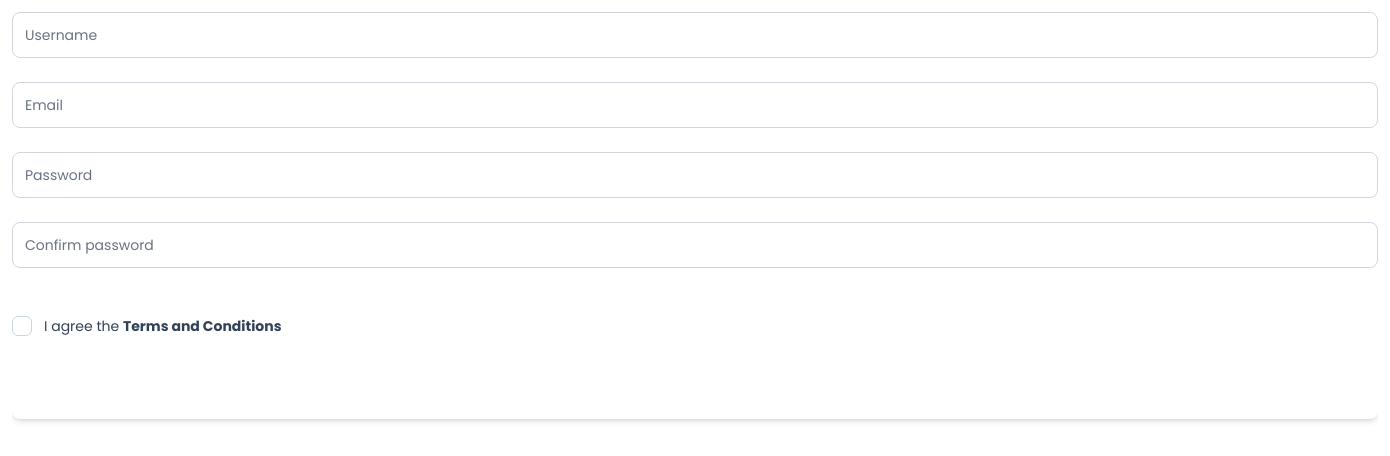
Test case: testing Sign up form › shows validation error when user already exists
Step 1. Type "Radu" into the field labelled "Username" → (695, 35), box [12, 12, 1378, 58]
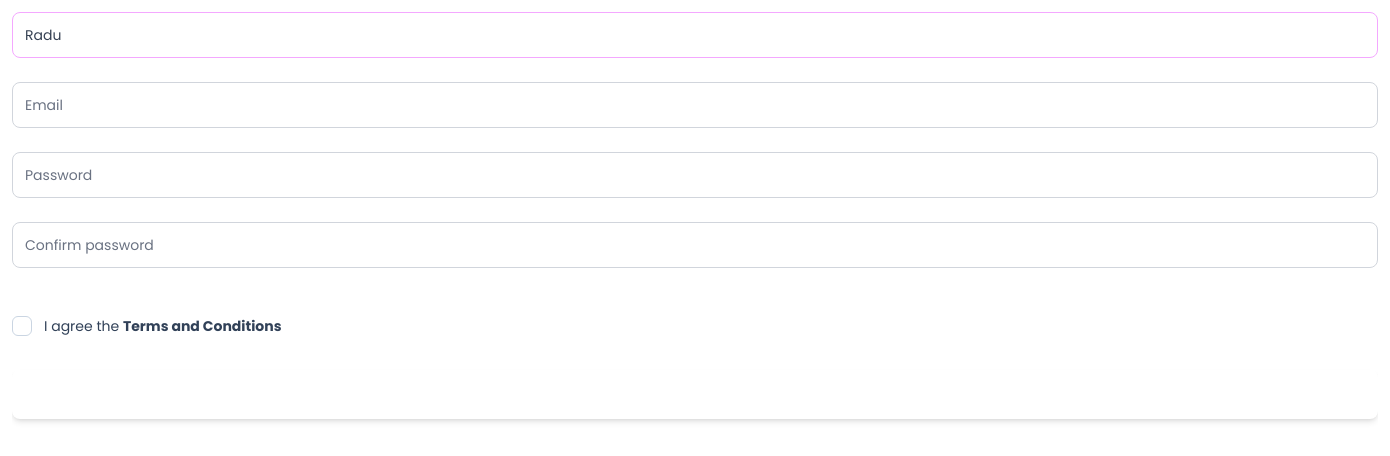
Step 2. Type "radu@example.com" into the field labelled "Email" → (695, 105), box [12, 82, 1378, 128]
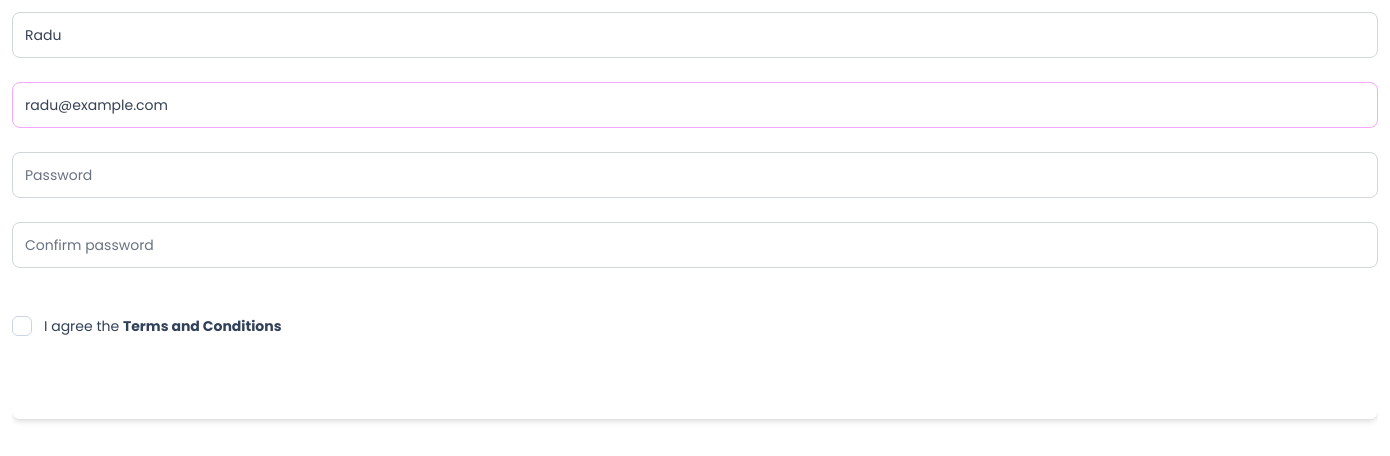
Step 3. Type "Password1" into the password field labelled "Password" → (695, 175), box [12, 152, 1378, 198]
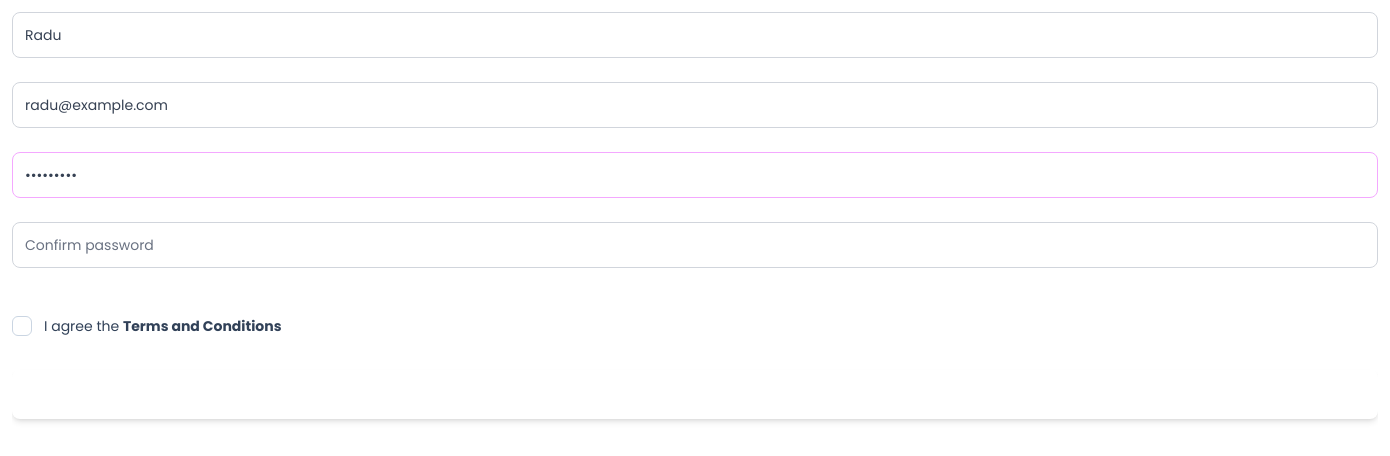
Step 4. Type "Password1" into the password field labelled "Confirm password" → (695, 245), box [12, 222, 1378, 268]
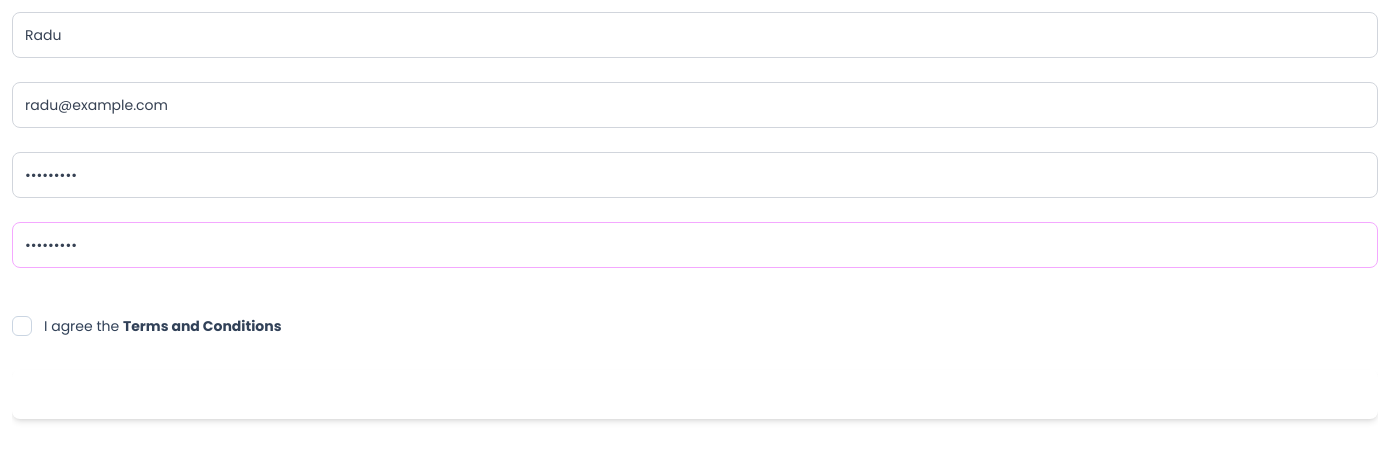
Step 5. Click the checkbox → (22, 326), box [12, 316, 32, 336]
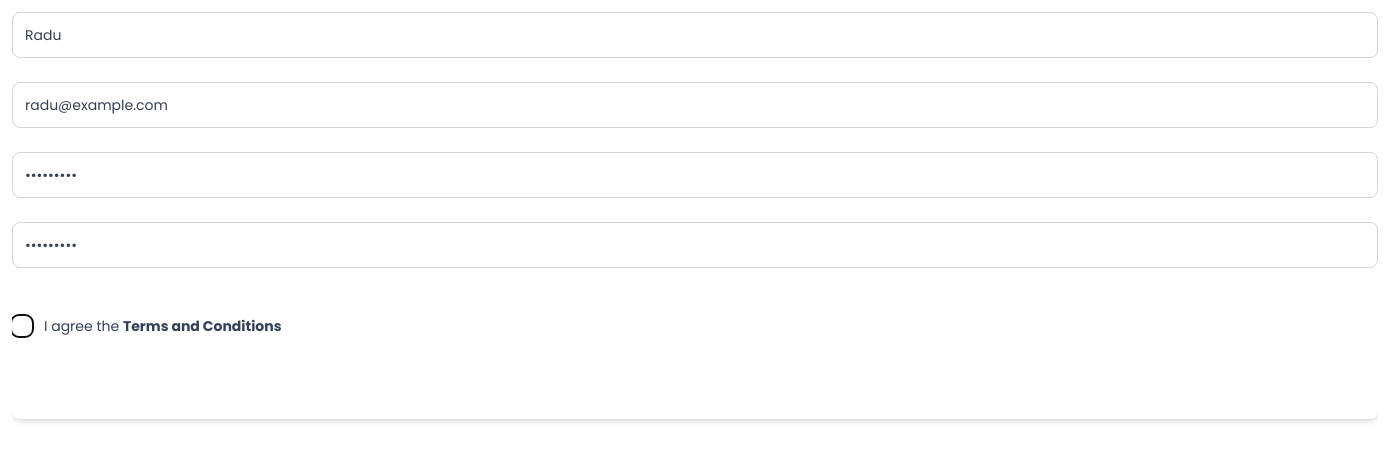
Step 6. Click the button "Sign Up" → (695, 394), box [12, 370, 1378, 419]
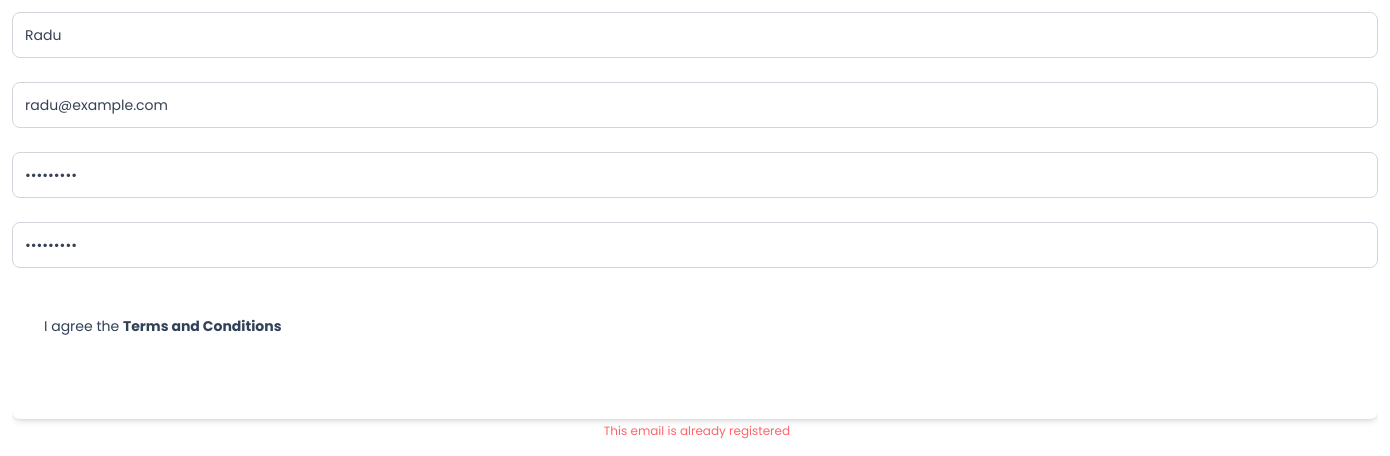
Expected: the text "This email is already registered" is shown, [604, 422, 790, 439]
